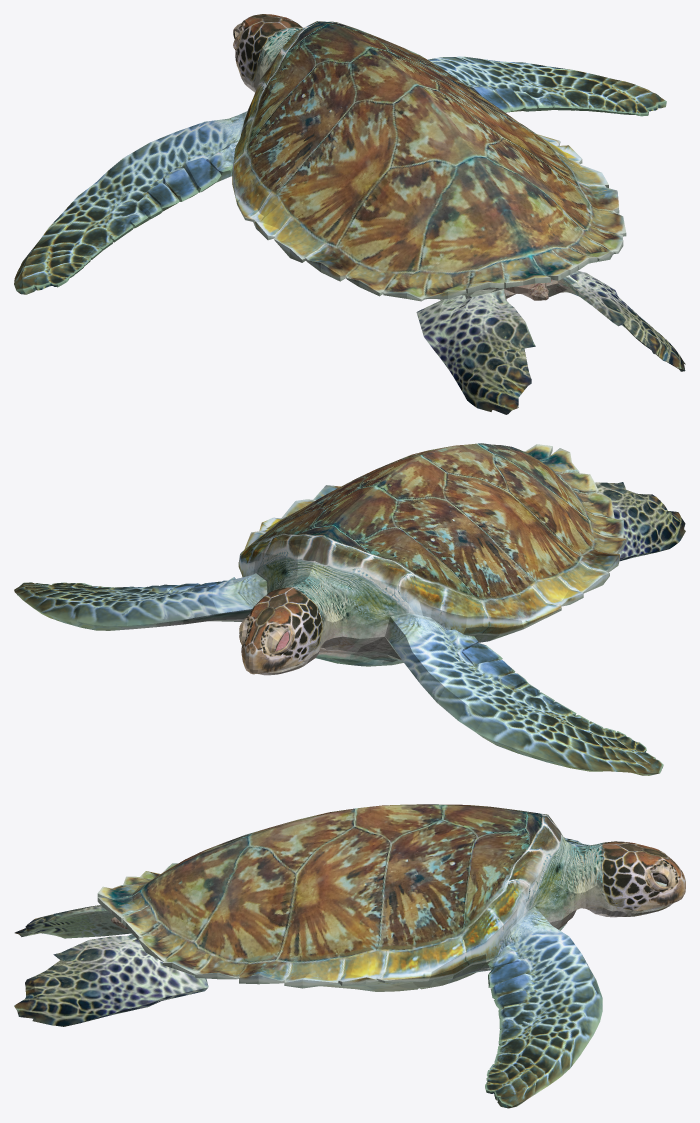
The model's file is frame_30.obj.
The picture shows the model from 3 angles, top to bottom: view 1: azimuth 30°, elevation 25°; view 2: azimuth 150°, elevation 25°; view 3: azimuth 270°, elevation 25°; orthographic projection. The views are drawn at different scales.
Parts seen in each view (by area): view 1: Turtle GEO Turtle; view 2: Turtle GEO Turtle; view 3: Turtle GEO Turtle.
Part boxes in pixels (x1,y1,x2,y2): Turtle GEO Turtle: (14,14,685,414); Turtle GEO Turtle: (14,443,685,775); Turtle GEO Turtle: (14,804,685,1108).
Size of the model in its own units: 105 by 29.88 by 99.95.
1 material, 1 textured.
